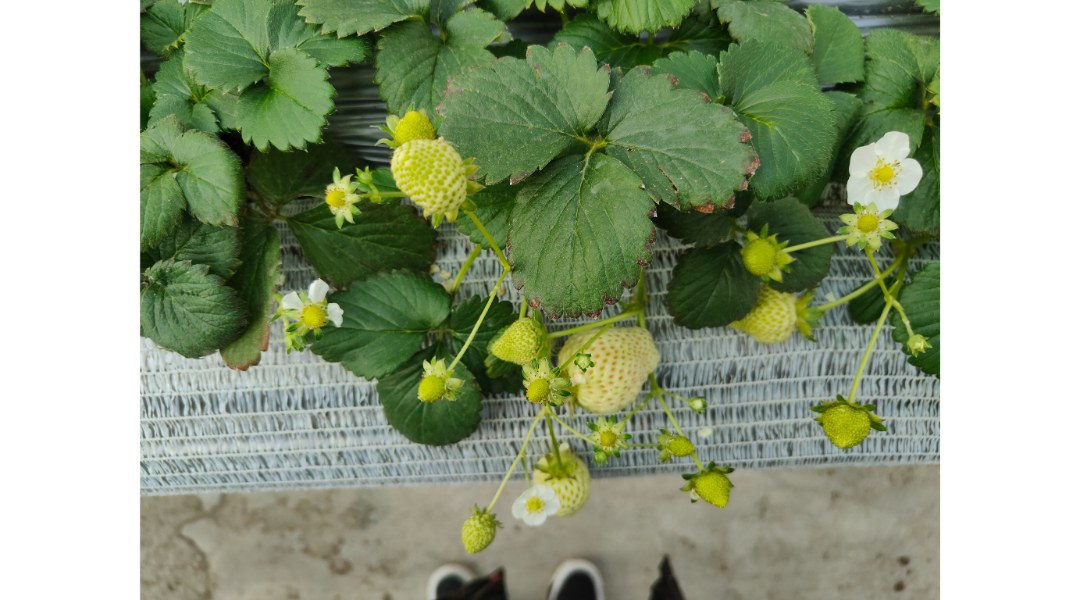berry: (716, 281, 819, 350), (813, 390, 896, 451), (819, 200, 899, 256), (533, 446, 596, 516), (736, 220, 791, 288), (417, 349, 469, 419), (464, 498, 503, 564), (687, 460, 735, 507), (590, 419, 636, 467), (647, 432, 703, 462)
flower: (377, 107, 479, 224), (836, 120, 929, 224), (275, 276, 347, 349), (311, 167, 359, 238), (515, 484, 570, 541)
strain: (845, 302, 887, 402), (466, 274, 508, 345), (559, 304, 637, 337), (657, 393, 683, 430)
